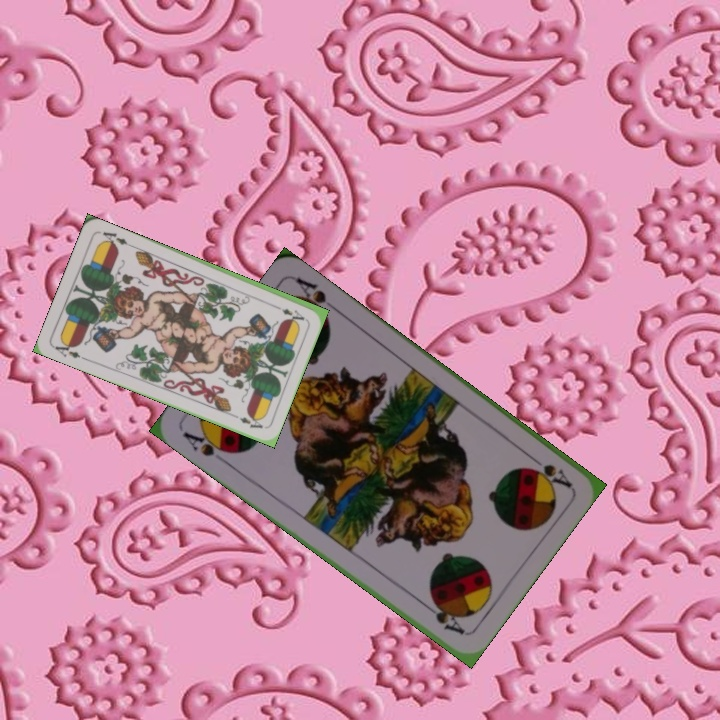EA: (50, 337, 89, 363), (269, 301, 307, 323)
SA: (178, 425, 236, 467), (522, 449, 574, 490)
